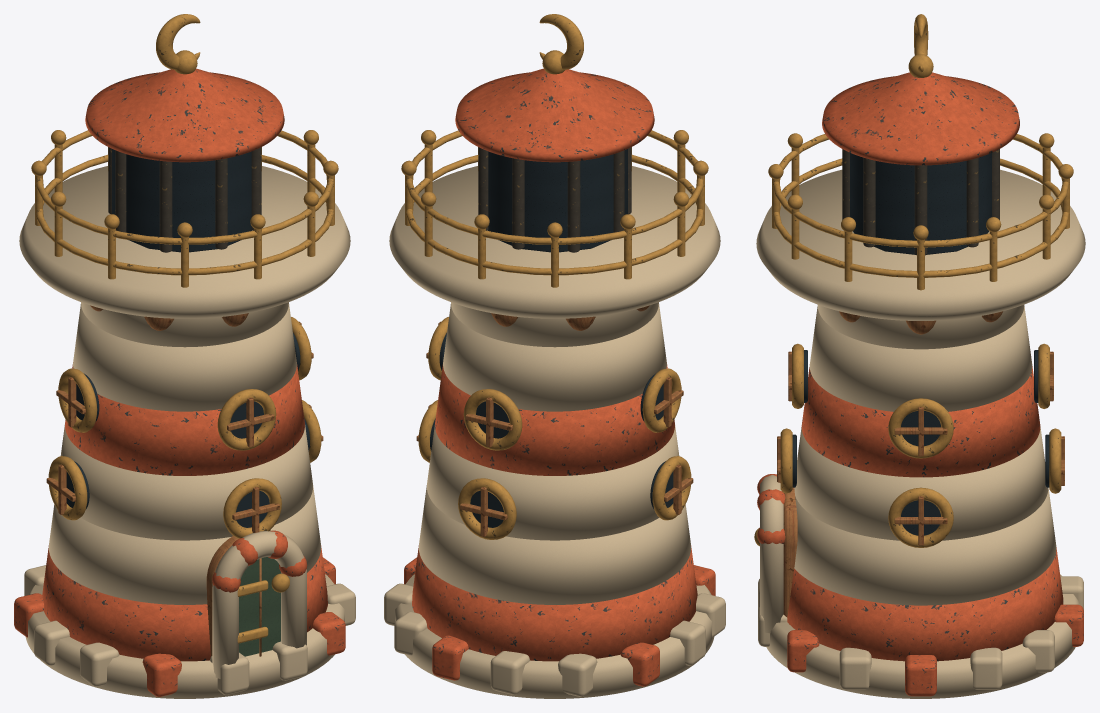
Rendered from B4_灯塔_分享包版.glb.
3 renders of one model, left to right at view 1: azimuth 30°, elevation 25°; view 2: azimuth 150°, elevation 25°; view 3: azimuth 270°, elevation 25°, orthographic.
Visible parts, largest first — view 1: Balcony slab, Coral lantern roof, Tapered lighthouse stripe.004, Tapered lighthouse stripe.002, Tapered lighthouse stripe.001, Tapered lighthouse stripe.003, Tapered lighthouse stripe, Lantern chamber, Broad stone foundation, Rounded sandstone arch, Tapered lighthouse stripe.005, Circular balcony rail (+24 smaller); view 2: Balcony slab, Tapered lighthouse stripe.001, Tapered lighthouse stripe, Coral lantern roof, Tapered lighthouse stripe.004, Tapered lighthouse stripe.002, Tapered lighthouse stripe.003, Lantern chamber, Broad stone foundation, Tapered lighthouse stripe.005, Circular balcony rail, Circular balcony rail.001 (+21 smaller); view 3: Balcony slab, Tapered lighthouse stripe.001, Tapered lighthouse stripe, Coral lantern roof, Tapered lighthouse stripe.004, Tapered lighthouse stripe.002, Tapered lighthouse stripe.003, Lantern chamber, Broad stone foundation, Tapered lighthouse stripe.005, Circular balcony rail, Circular balcony rail.001 (+22 smaller).
Part boxes in pixels (x1,y1,x2,y2): Balcony slab: (19, 166, 350, 318); Coral lantern roof: (85, 68, 284, 162); Tapered lighthouse stripe.004: (73, 304, 296, 411); Tapered lighthouse stripe.002: (60, 425, 312, 540); Tapered lighthouse stripe.001: (48, 485, 321, 604); Tapered lighthouse stripe.003: (65, 364, 304, 475); Tapered lighthouse stripe: (42, 545, 327, 661); Lantern chamber: (112, 149, 251, 252); Broad stone foundation: (25, 574, 344, 698); Rounded sandstone arch: (212, 531, 306, 678); Tapered lighthouse stripe.005: (81, 302, 288, 347); Circular balcony rail: (36, 154, 333, 275); Balcony slab: (389, 166, 720, 318); Tapered lighthouse stripe.001: (418, 485, 691, 604); Tapered lighthouse stripe: (412, 545, 697, 661); Coral lantern roof: (455, 68, 654, 162); Tapered lighthouse stripe.004: (443, 304, 666, 411); Tapered lighthouse stripe.002: (427, 425, 679, 540); Tapered lighthouse stripe.003: (435, 364, 674, 475); Lantern chamber: (488, 149, 627, 252); Broad stone foundation: (395, 574, 714, 698); Tapered lighthouse stripe.005: (451, 302, 658, 347); Circular balcony rail: (406, 154, 703, 275); Circular balcony rail.001: (406, 130, 703, 244); Balcony slab: (756, 169, 1085, 320); Tapered lighthouse stripe.001: (794, 488, 1056, 605); Tapered lighthouse stripe: (787, 547, 1063, 661); Coral lantern roof: (822, 72, 1019, 165); Tapered lighthouse stripe.004: (809, 306, 1032, 411); Tapered lighthouse stripe.002: (794, 426, 1048, 540); Tapered lighthouse stripe.003: (801, 364, 1040, 477); Lantern chamber: (850, 153, 991, 254); Broad stone foundation: (766, 574, 1079, 698); Tapered lighthouse stripe.005: (817, 305, 1024, 349); Circular balcony rail: (772, 158, 1069, 277); Circular balcony rail.001: (773, 134, 1069, 247).
Size of the model in its own units: 2.39 by 4.85 by 2.37.
Materials: 7 (7 with a texture image).
